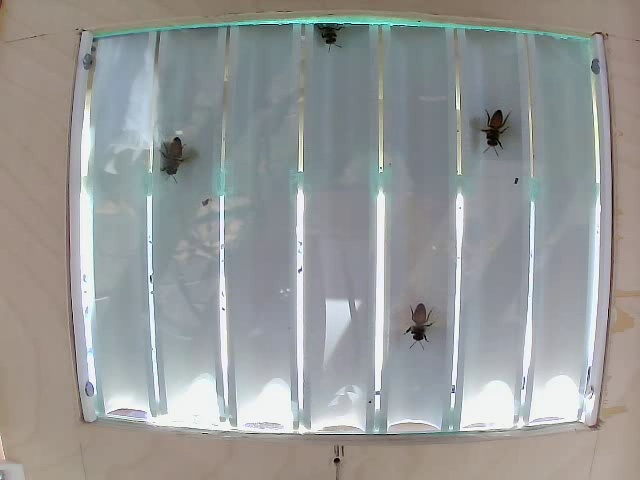bee: (400, 282, 439, 351), (308, 18, 361, 66), (156, 137, 193, 191), (479, 105, 512, 156)
